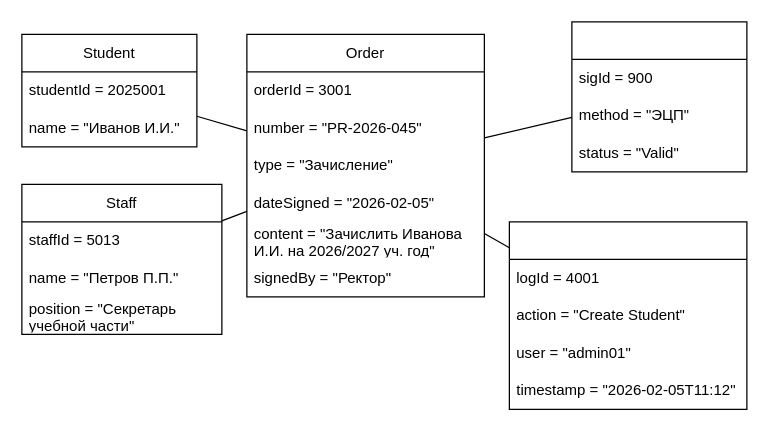
The diagram is 769 pixels wide and 431 high, and some of its shapes have lost their labels. The shapes that lost their labels are listed below. From the top down, each one's box as (x1, y1, x2, y2) in pixels, then its label:
(571, 21, 747, 172): DocSignature
(508, 221, 747, 409): AuditLog
